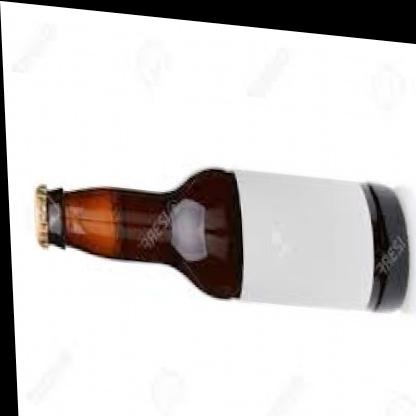trash: (36, 169, 408, 309)
